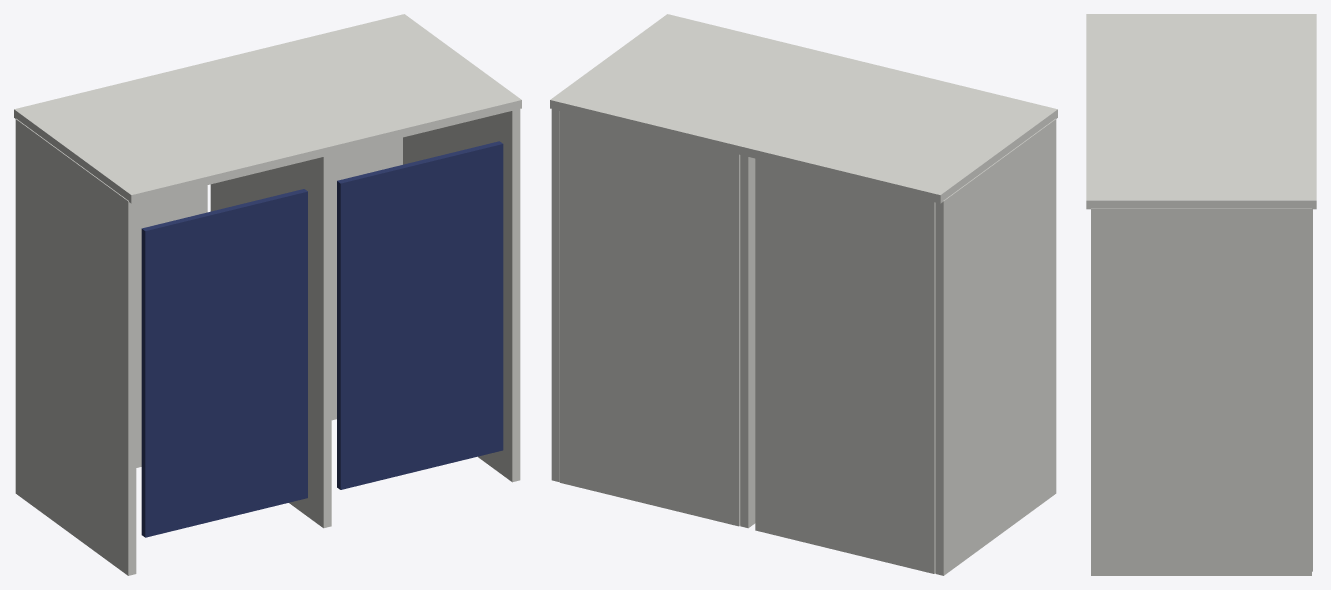
Rendered from fitting_room.glb.
The picture shows the model from 3 angles, left to right: view 1: azimuth 30°, elevation 25°; view 2: azimuth 150°, elevation 25°; view 3: azimuth 270°, elevation 25°; orthographic projection. The views are drawn at different scales.
Parts seen in each view (by area): view 1: fitting_room; view 2: fitting_room; view 3: fitting_room.
Part boxes in pixels (x1,y1,x2,y2): fitting_room: (14,14,521,575); fitting_room: (550,14,1057,575); fitting_room: (1086,14,1316,575).
Size of the model in its own units: 2.41 by 2.25 by 1.25.
1 material, 1 textured.
